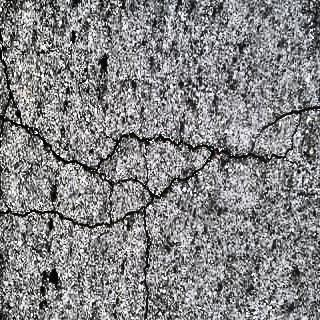crack: (88, 130, 298, 206), (1, 114, 89, 170), (1, 205, 140, 230), (246, 93, 320, 129), (0, 24, 21, 115), (138, 204, 154, 320)
